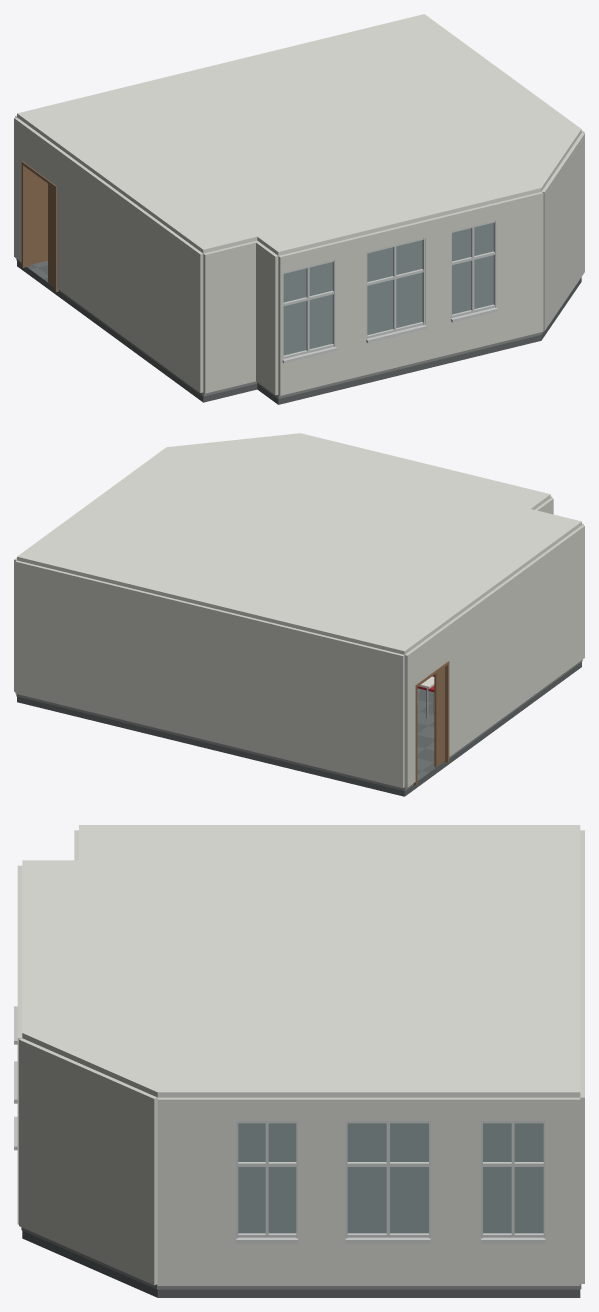
Rendered from ckk-115-interior-3fe3cffaf3f0.glb.
3 views of the same model, one above another, from view 1: azimuth 30°, elevation 25°; view 2: azimuth 150°, elevation 25°; view 3: azimuth 270°, elevation 25° (orthographic). The views are drawn at different scales.
Visible parts, largest first — view 1: ckk-115; view 2: ckk-115; view 3: ckk-115.
Boxes of the visible parts, x1=… form: ckk-115: x1=14, y1=14, x2=584, y2=404; ckk-115: x1=14, y1=433, x2=584, y2=796; ckk-115: x1=14, y1=825, x2=584, y2=1297.
Bounding box in the file's own units: 9.54 × 3.35 × 8.42.
